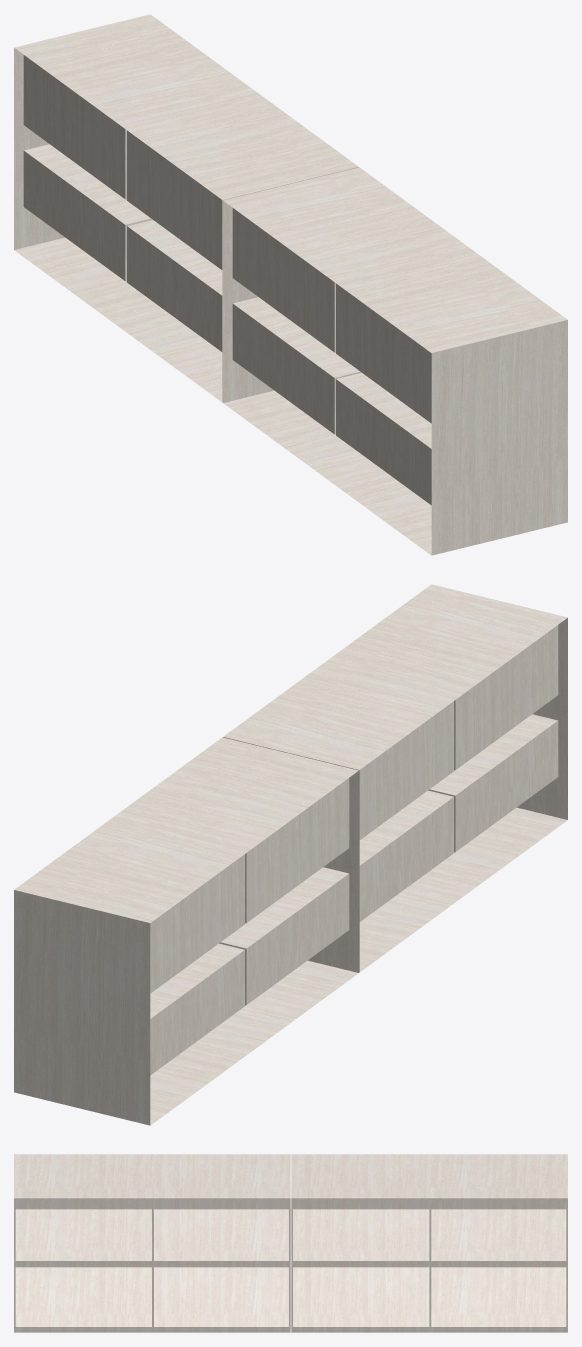
File: CK-guizi0003-CJBZ.FBX
3 renders of one model, top to bottom at view 1: azimuth 30°, elevation 25°; view 2: azimuth 150°, elevation 25°; view 3: azimuth 270°, elevation 25°, orthographic. The views are drawn at different scales.
Visible parts, largest first — view 1: CK-guizi0003-CJBZ; view 2: CK-guizi0003-CJBZ; view 3: CK-guizi0003-CJBZ.
Part boxes in pixels (x1=…): CK-guizi0003-CJBZ: x1=14, y1=14, x2=567, y2=555; CK-guizi0003-CJBZ: x1=14, y1=584, x2=567, y2=1125; CK-guizi0003-CJBZ: x1=14, y1=1154, x2=567, y2=1332.
Size of the model in its own units: 0.6958 by 0.9865 by 3.69.
Materials: 1 (1 with a texture image).
